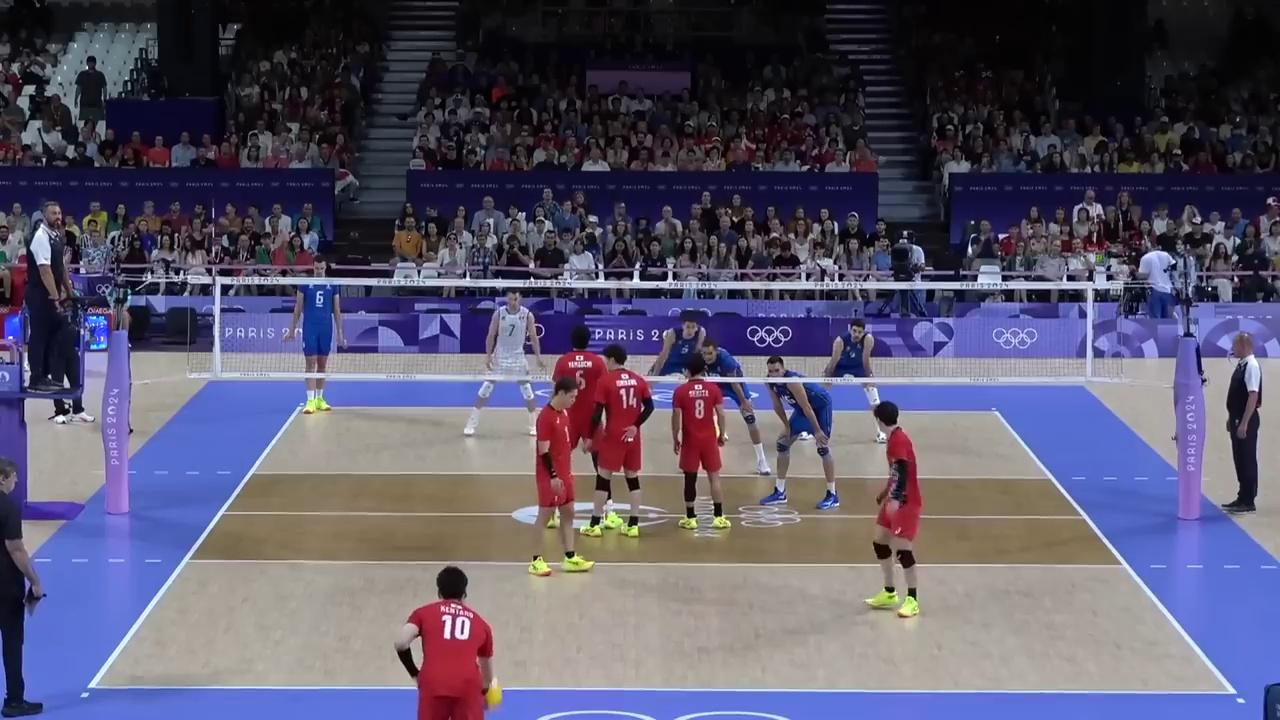ball: (482, 682, 502, 710)
